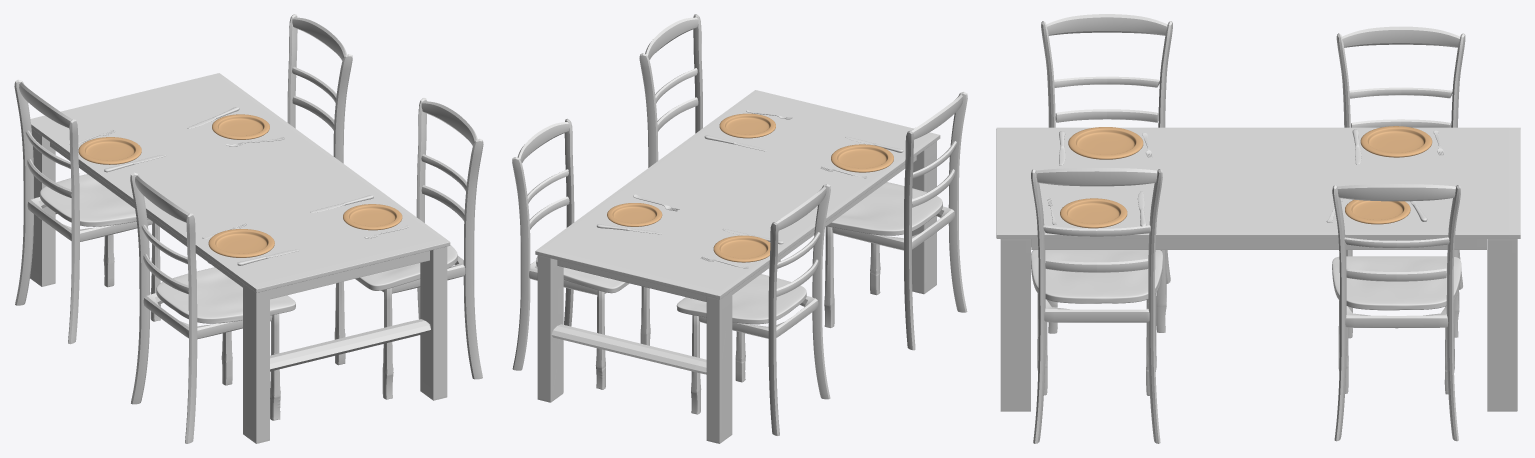
Rendered from mesaComedor.fbx.
3 renders of one model, left to right at view 1: azimuth 30°, elevation 25°; view 2: azimuth 150°, elevation 25°; view 3: azimuth 270°, elevation 25°, orthographic. The views are drawn at different scales.
Visible parts, largest first — view 1: Table, Fourth Chair, Third Chair, Chair, Second Chair, Chair Seat.003, Chair Seat.002, Plate, Plate.001, Plate.002, Chair Seat, Plate.003; view 2: Table, Fourth Chair, Third Chair, Second Chair, Chair, Chair Seat.003, Chair Seat.002, Plate, Plate.001, Plate.002, Plate.003, Chair Seat.001; view 3: Table, Chair, Second Chair, Fourth Chair, Third Chair, Chair Seat, Chair Seat.001, Plate, Plate.001, Plate.002, Plate.003.
Boxes of the visible parts, bbox=[...] form: Table: bbox=[30, 73, 450, 443]; Fourth Chair: bbox=[130, 172, 280, 443]; Third Chair: bbox=[14, 79, 160, 344]; Chair: bbox=[334, 98, 483, 399]; Second Chair: bbox=[208, 14, 352, 263]; Chair Seat.003: bbox=[156, 267, 295, 323]; Chair Seat.002: bbox=[40, 174, 148, 226]; Plate: bbox=[208, 229, 274, 257]; Plate.001: bbox=[78, 137, 141, 164]; Plate.002: bbox=[343, 204, 402, 230]; Chair Seat: bbox=[355, 245, 457, 290]; Plate.003: bbox=[212, 114, 269, 139]; Table: bbox=[535, 90, 940, 443]; Fourth Chair: bbox=[824, 92, 967, 350]; Third Chair: bbox=[691, 184, 830, 435]; Second Chair: bbox=[512, 118, 650, 389]; Chair: bbox=[639, 14, 780, 262]; Chair Seat.003: bbox=[827, 182, 942, 235]; Chair Seat.002: bbox=[676, 274, 806, 324]; Plate: bbox=[831, 144, 893, 172]; Plate.001: bbox=[713, 235, 770, 262]; Plate.002: bbox=[719, 113, 775, 138]; Plate.003: bbox=[607, 203, 662, 226]; Chair Seat.001: bbox=[536, 256, 629, 293]; Table: bbox=[996, 127, 1520, 411]; Chair: bbox=[1031, 168, 1162, 443]; Second Chair: bbox=[1332, 184, 1460, 441]; Fourth Chair: bbox=[1041, 14, 1172, 333]; Third Chair: bbox=[1336, 26, 1465, 338]; Chair Seat: bbox=[1031, 250, 1162, 303]; Chair Seat.001: bbox=[1332, 256, 1461, 310]; Plate: bbox=[1068, 127, 1143, 159]; Plate.001: bbox=[1360, 126, 1432, 157]; Plate.002: bbox=[1060, 198, 1127, 228]; Plate.003: bbox=[1345, 199, 1410, 224].
Bounding box in the file's own units: 1.12 × 0.8703 × 1.49.
